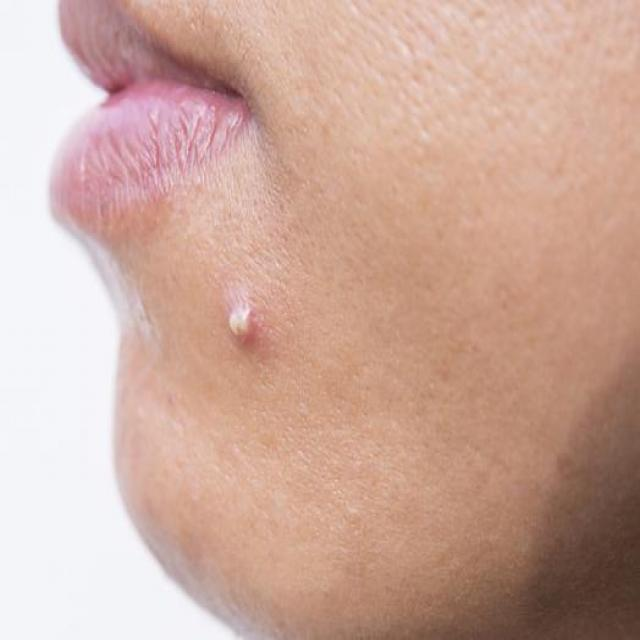blackheads: (228, 299, 256, 346)
